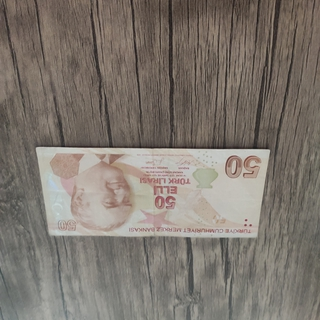50TLFront: (35, 146, 271, 238)
